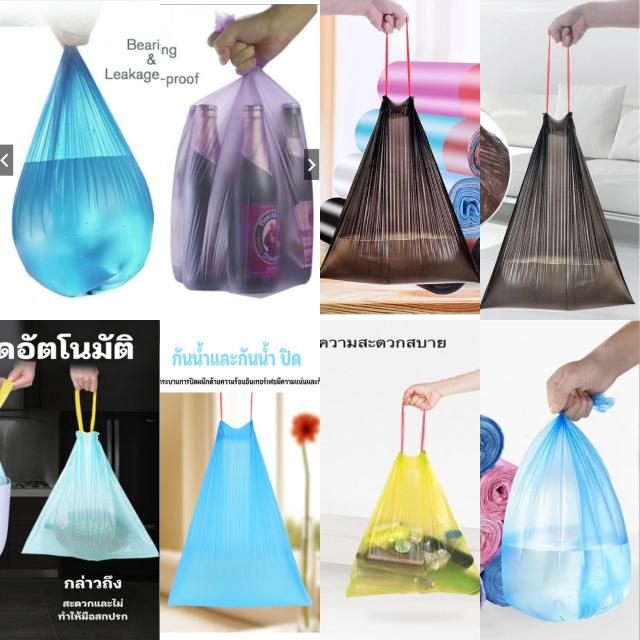Single-layer Plastic: (12, 45, 154, 296), (171, 69, 314, 296), (481, 112, 634, 310), (321, 96, 479, 284), (501, 414, 630, 621), (169, 421, 311, 608), (346, 450, 480, 598), (22, 431, 159, 561)
